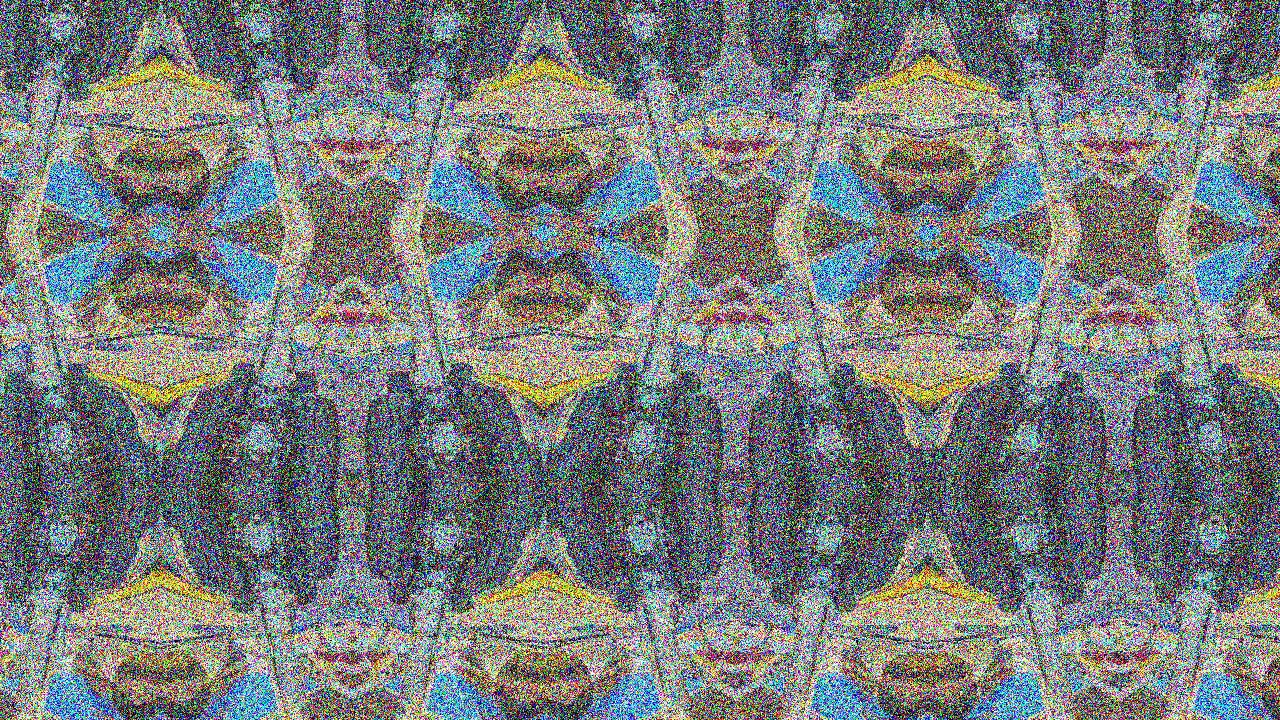chock: (2, 110, 7, 115), (313, 110, 318, 115), (386, 110, 391, 115), (697, 110, 702, 115), (770, 110, 775, 115), (1081, 110, 1086, 115), (1154, 110, 1159, 115), (2, 349, 7, 354), (313, 349, 318, 354), (386, 349, 391, 354), (697, 349, 702, 354), (770, 349, 775, 354), (1081, 349, 1086, 354), (1154, 349, 1159, 354), (2, 622, 7, 627), (313, 622, 318, 627), (386, 622, 391, 627), (697, 622, 702, 627), (770, 622, 775, 627), (1081, 622, 1086, 627), (1154, 622, 1159, 627)
wheel: (71, 373, 160, 488), (160, 373, 249, 488), (455, 373, 544, 488), (544, 373, 633, 488), (839, 373, 928, 488), (928, 373, 1017, 488), (71, 488, 160, 603), (160, 488, 249, 603), (455, 488, 544, 603), (544, 488, 633, 603), (839, 488, 928, 603), (928, 488, 1017, 603), (267, 389, 351, 488), (353, 389, 437, 488), (651, 389, 735, 488), (737, 389, 821, 488), (1035, 389, 1119, 488), (1121, 389, 1205, 488), (267, 488, 351, 587), (353, 488, 437, 587), (651, 488, 735, 587), (737, 488, 821, 587), (1035, 488, 1119, 587), (1121, 488, 1205, 587), (71, 0, 160, 91), (160, 0, 249, 91), (455, 0, 544, 91), (544, 0, 633, 91), (839, 0, 928, 91), (928, 0, 1017, 91), (1223, 373, 1280, 488), (1223, 488, 1280, 603), (267, 0, 351, 75), (353, 0, 437, 75), (651, 0, 735, 75), (737, 0, 821, 75), (1035, 0, 1119, 75), (1121, 0, 1205, 75), (0, 389, 53, 488), (0, 488, 53, 587), (1223, 0, 1280, 91), (0, 0, 53, 75), (283, 43, 322, 96), (382, 43, 421, 96), (667, 43, 706, 96), (766, 43, 805, 96), (1051, 43, 1090, 96), (1150, 43, 1189, 96), (283, 368, 322, 421), (382, 368, 421, 421), (667, 368, 706, 421), (766, 368, 805, 421), (1051, 368, 1090, 421), (1150, 368, 1189, 421), (283, 555, 322, 608), (382, 555, 421, 608), (667, 555, 706, 608), (766, 555, 805, 608), (1051, 555, 1090, 608), (1150, 555, 1189, 608), (0, 43, 37, 96), (0, 368, 37, 421), (0, 555, 37, 608), (62, 56, 99, 104), (221, 56, 258, 104), (446, 56, 483, 104), (605, 56, 642, 104), (830, 56, 867, 104), (989, 56, 1026, 104), (1214, 56, 1251, 104), (62, 360, 99, 408), (221, 360, 258, 408), (446, 360, 483, 408), (605, 360, 642, 408), (830, 360, 867, 408), (989, 360, 1026, 408), (1214, 360, 1251, 408), (62, 568, 99, 616), (221, 568, 258, 616), (446, 568, 483, 616), (605, 568, 642, 616), (830, 568, 867, 616), (989, 568, 1026, 616), (1214, 568, 1251, 616), (319, 111, 325, 119), (379, 111, 385, 119), (703, 111, 709, 119), (763, 111, 769, 119), (1087, 111, 1093, 119), (1147, 111, 1153, 119), (319, 345, 325, 353), (379, 345, 385, 353), (703, 345, 709, 353), (763, 345, 769, 353), (1087, 345, 1093, 353), (1147, 345, 1153, 353), (319, 623, 325, 631), (379, 623, 385, 631), (703, 623, 709, 631), (763, 623, 769, 631), (1087, 623, 1093, 631), (1147, 623, 1153, 631), (1, 113, 7, 120), (313, 113, 319, 120), (385, 113, 391, 120), (697, 113, 703, 120), (769, 113, 775, 120), (1081, 113, 1087, 120), (1153, 113, 1159, 120), (1, 344, 7, 351), (313, 344, 319, 351), (385, 344, 391, 351), (697, 344, 703, 351), (769, 344, 775, 351), (1081, 344, 1087, 351), (1153, 344, 1159, 351), (1, 625, 7, 632), (313, 625, 319, 632), (385, 625, 391, 632), (697, 625, 703, 632), (769, 625, 775, 632), (1081, 625, 1087, 632), (1153, 625, 1159, 632), (0, 111, 1, 119), (0, 345, 1, 353), (0, 623, 1, 631)
